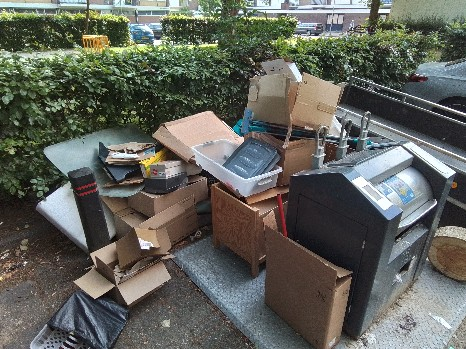Container: (316, 142, 454, 332)
Papier: (89, 248, 165, 307), (115, 235, 175, 275), (141, 157, 188, 185), (121, 143, 163, 170)
Rest: (53, 144, 202, 230), (346, 65, 459, 143), (264, 238, 346, 338), (238, 55, 335, 128), (193, 117, 293, 184), (197, 189, 279, 268), (163, 116, 246, 165), (55, 297, 124, 346)
